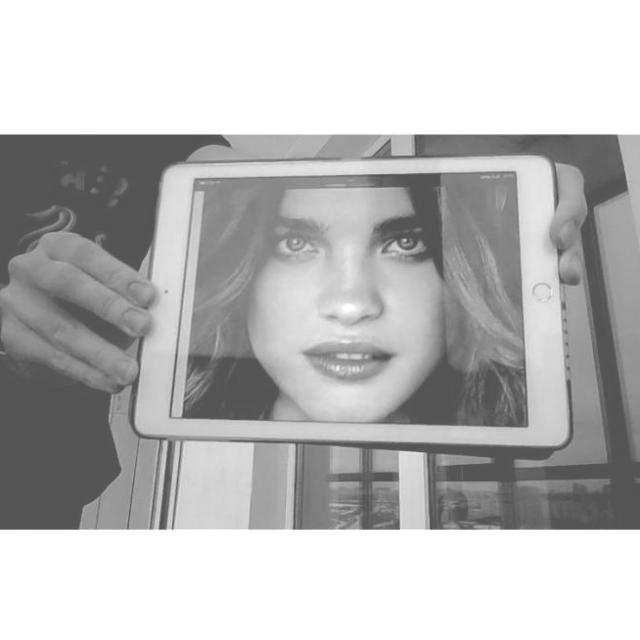fake: (124, 148, 572, 460)
